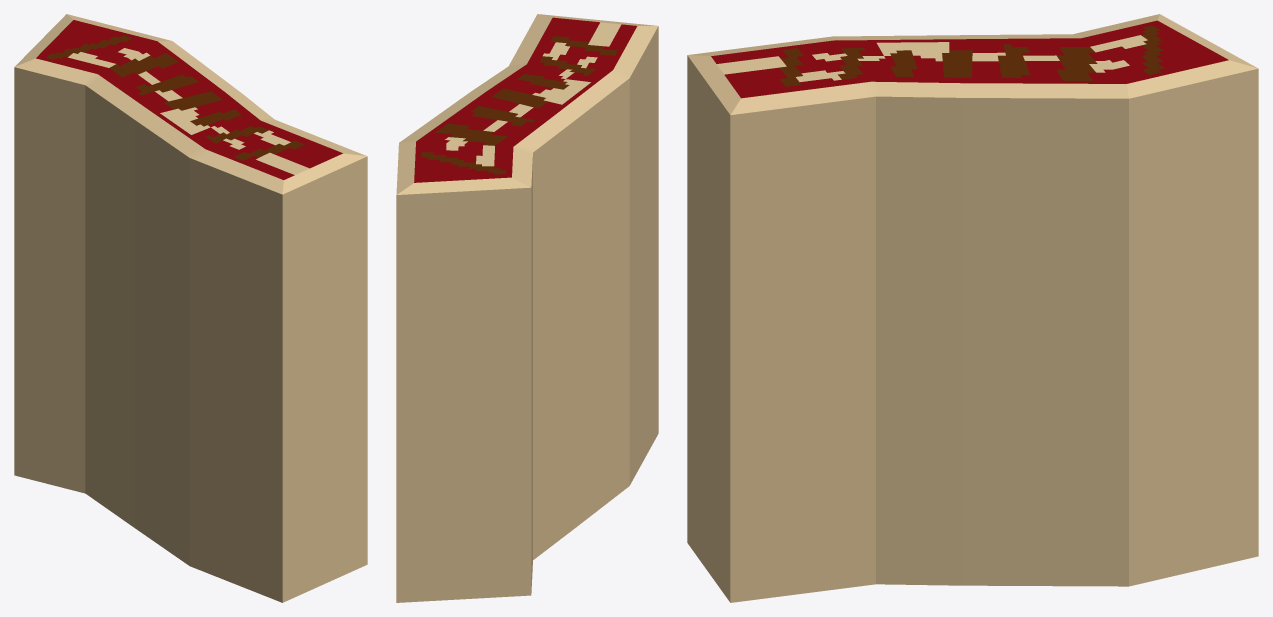
File: meat_cooked.fbx
3 views of the same model, side by side, from view 1: azimuth 30°, elevation 25°; view 2: azimuth 150°, elevation 25°; view 3: azimuth 270°, elevation 25° (orthographic). The views are drawn at different scales.
Parts seen in each view (by area): view 1: Cube; view 2: Cube; view 3: Cube.
Part boxes in pixels (x1,y1,x2,y2): Cube: [14, 14, 367, 602]; Cube: [396, 14, 658, 602]; Cube: [687, 14, 1258, 602].
Size of the model in its own units: 194 by 446 by 463.
